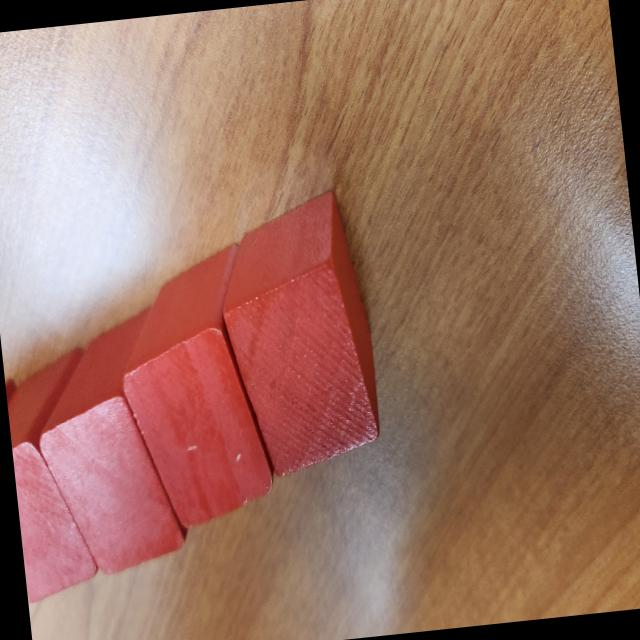red: (210, 186, 389, 486), (108, 242, 276, 533), (24, 303, 188, 581), (2, 348, 112, 603)
